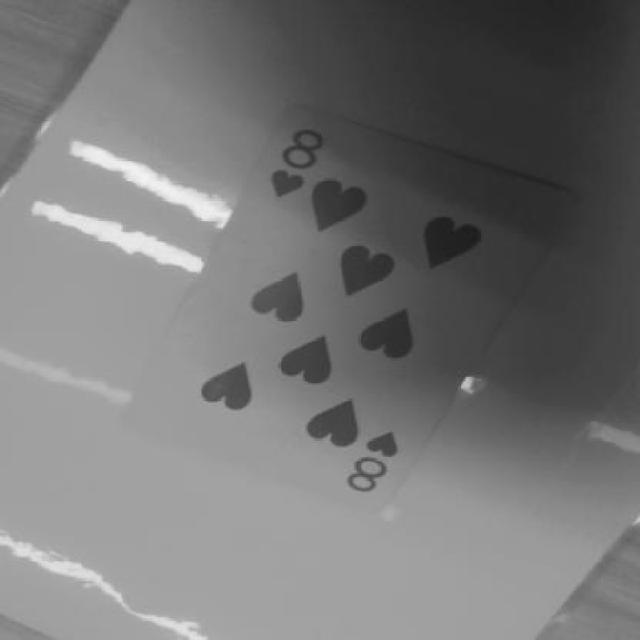8H: (261, 124, 344, 199), (343, 422, 414, 506)
